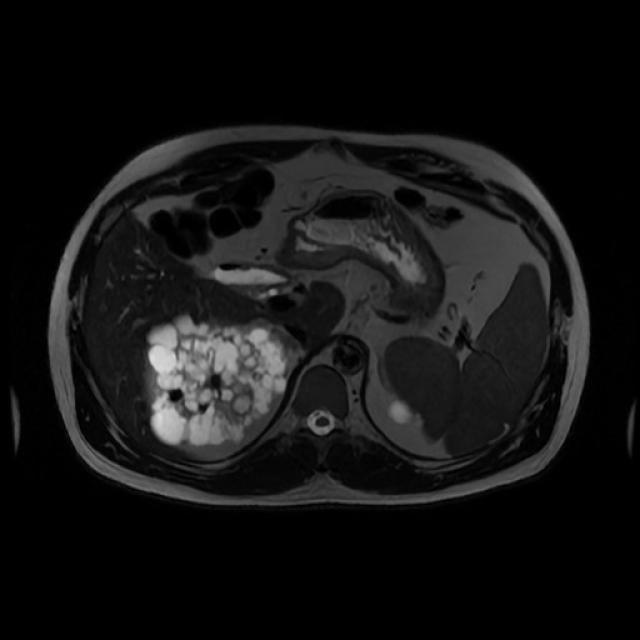sag: (148, 314, 288, 448)
sol: (385, 397, 424, 428)
